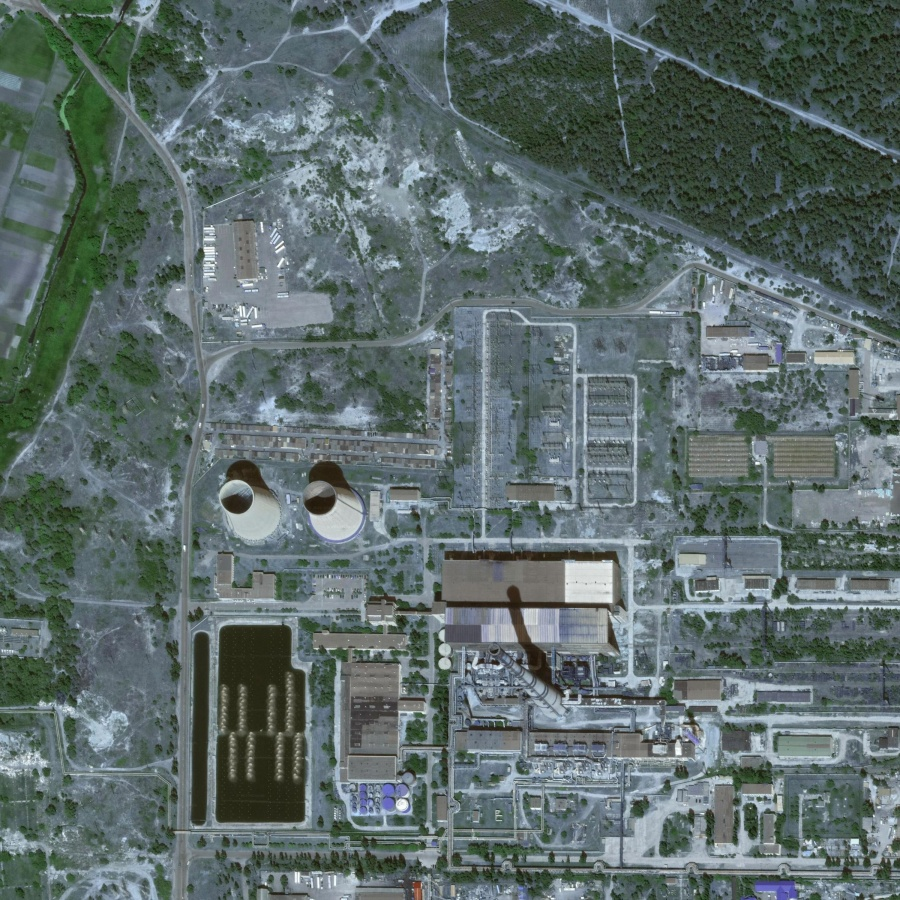PowerPlant: (180, 437, 633, 837)
